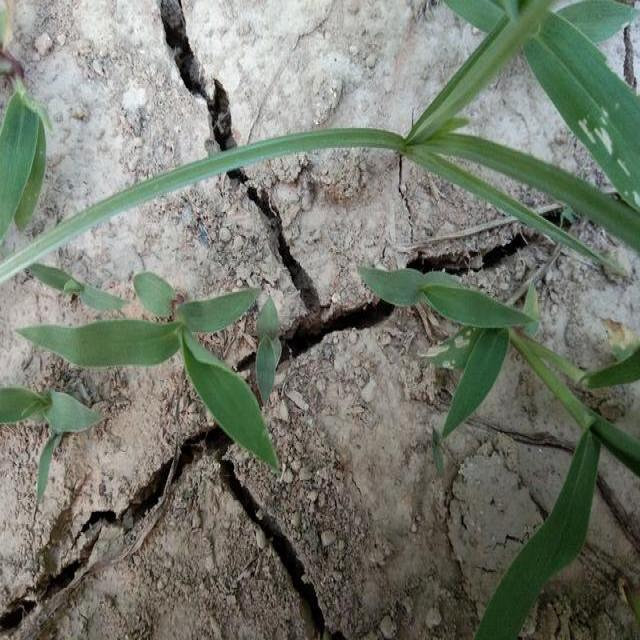weed: (404, 9, 640, 264), (17, 133, 404, 248), (45, 300, 282, 462), (560, 342, 639, 640), (368, 262, 524, 349), (0, 82, 45, 233), (446, 328, 508, 429), (0, 382, 114, 423)
